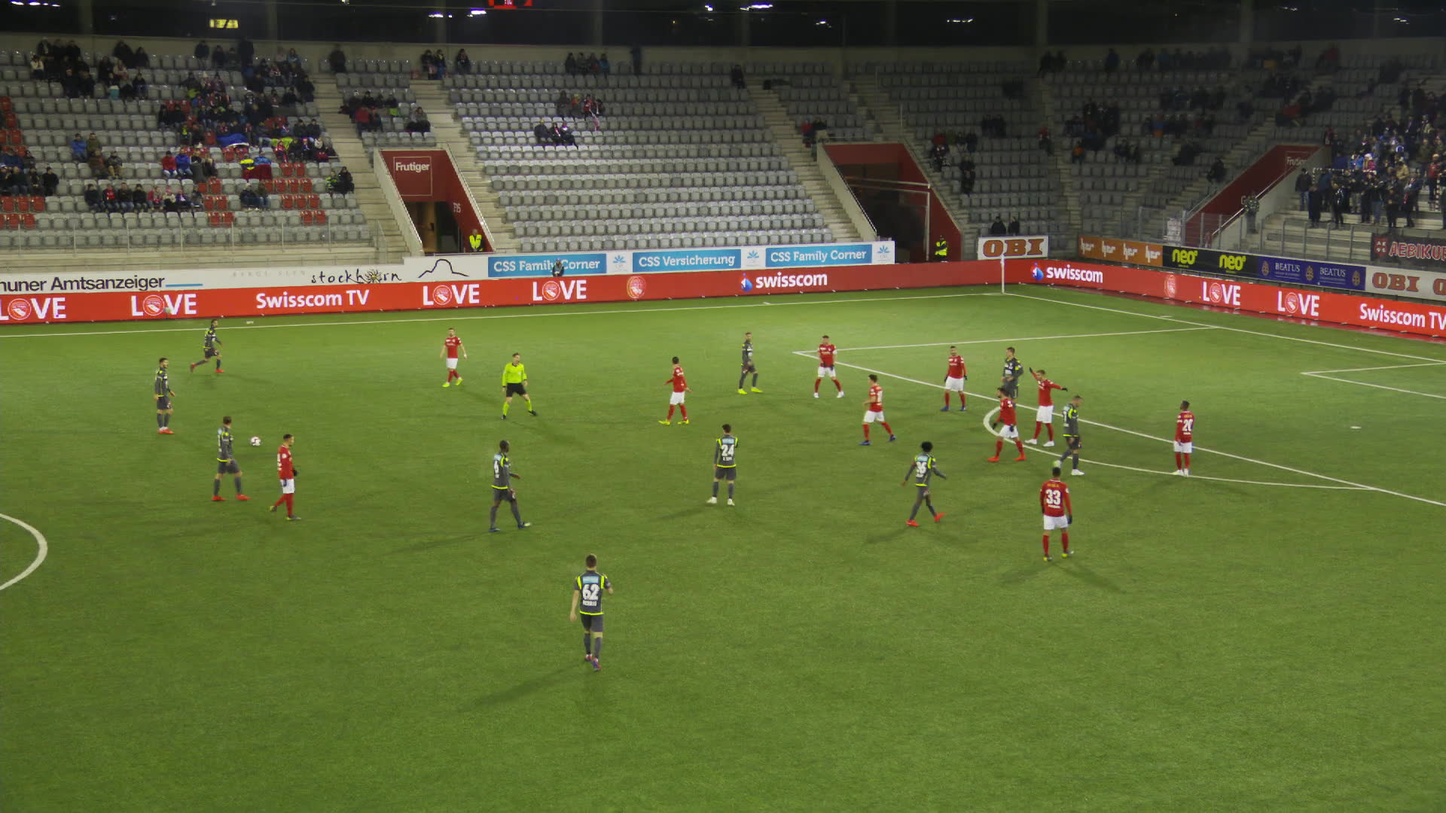ball: (252, 436, 261, 445)
player: (573, 550, 614, 665), (898, 440, 944, 525), (488, 440, 527, 529), (213, 416, 250, 499), (1036, 470, 1069, 560), (271, 433, 305, 519), (1025, 367, 1061, 445), (854, 373, 891, 443), (709, 423, 740, 504), (985, 385, 1018, 460), (157, 357, 184, 434), (810, 335, 840, 397), (735, 332, 765, 394), (938, 345, 965, 412), (1057, 394, 1079, 473), (1169, 400, 1192, 475), (441, 328, 468, 386), (665, 356, 685, 425), (1001, 347, 1023, 406), (198, 319, 222, 373)
referee: (499, 354, 532, 419)
